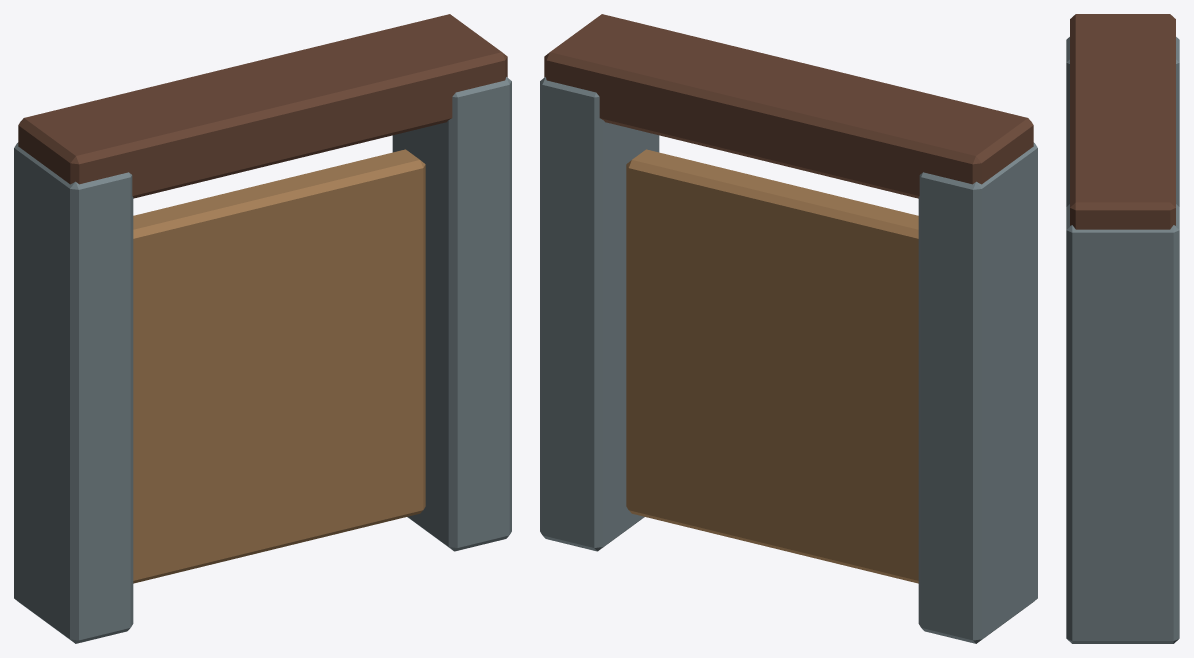
Rendered from gate.glb.
3 views of the same model, side by side, from view 1: azimuth 30°, elevation 25°; view 2: azimuth 150°, elevation 25°; view 3: azimuth 270°, elevation 25° (orthographic). The views are drawn at different scales.
Visible parts, largest first — view 1: Geometry, GateDoor; view 2: Geometry, GateDoor; view 3: Geometry.
Boxes of the visible parts, x1,y1,x2,y2 form: Geometry: (14, 14, 511, 643); GateDoor: (133, 149, 425, 583); Geometry: (540, 14, 1037, 643); GateDoor: (626, 149, 918, 583); Geometry: (1066, 14, 1179, 643).
Bounding box in the file's own units: 1.96 × 2.06 × 0.48.
